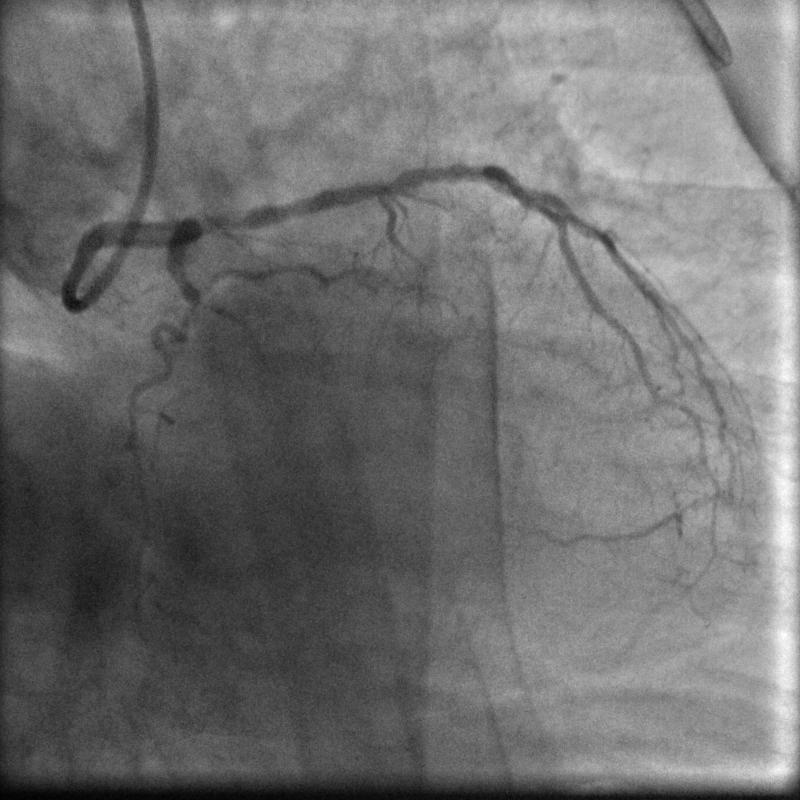Stenosis: (195, 205, 267, 233)
